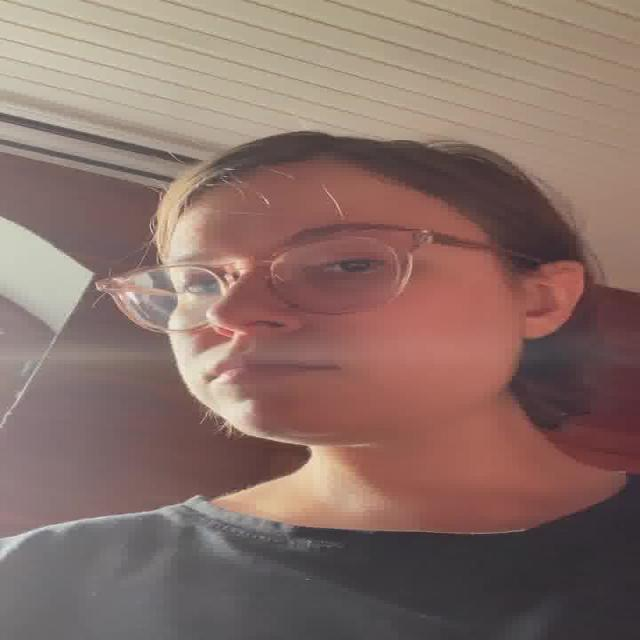earlobe: (516, 259, 584, 340)
